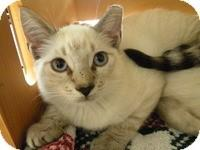siamese: (16, 1, 129, 117)
